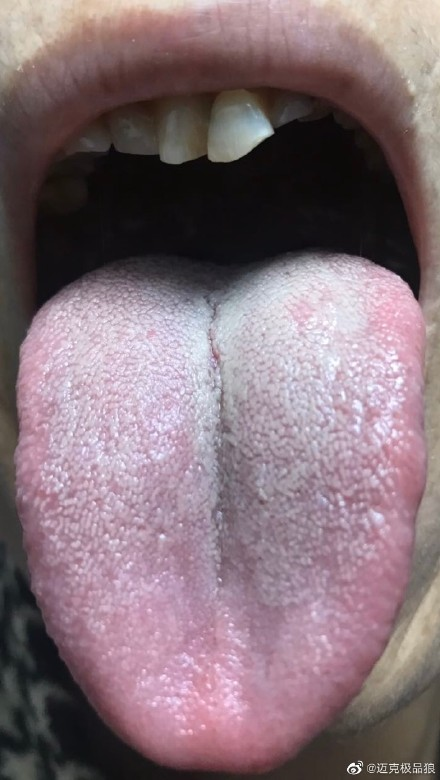baitaishe: (16, 249, 428, 776)
liewenshe: (198, 291, 229, 588)
